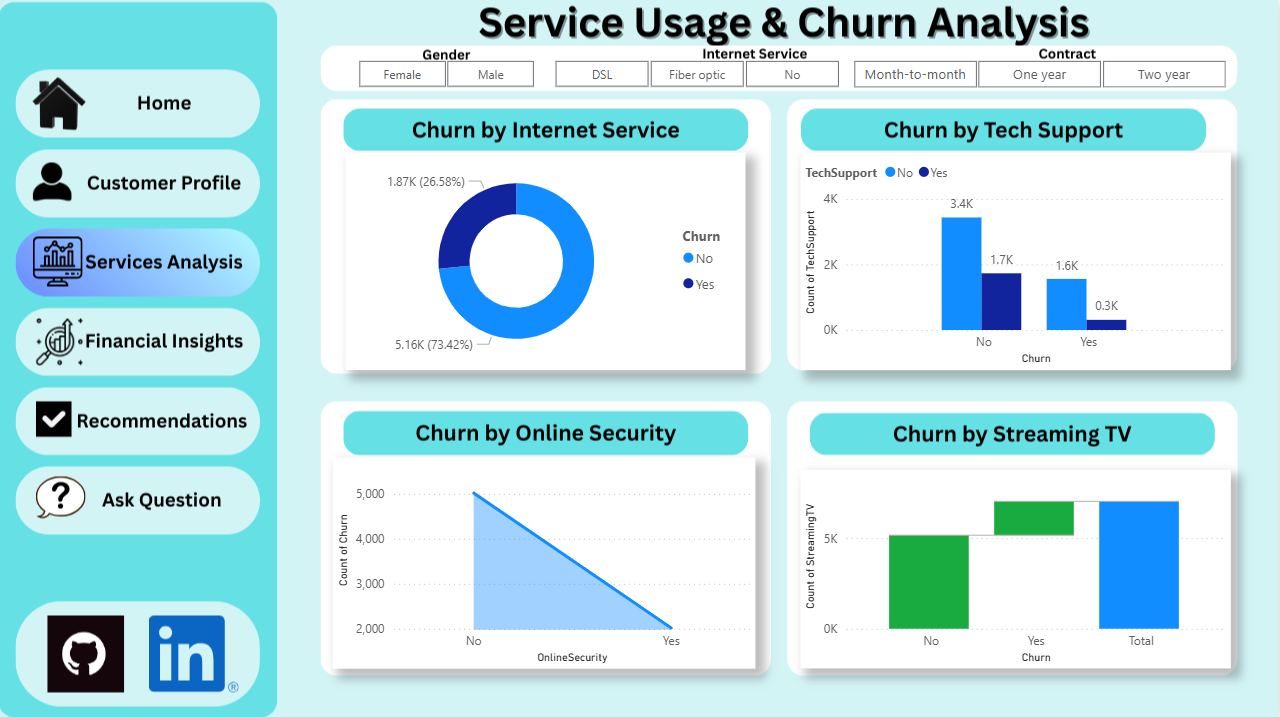

What the dashboard file says about the page in this screenshot:
{"tool":"powerbi","page":{"name":"Services Analysis","canvas":[1280,720],"ordinal":2},"visuals":[{"type":"donutChart","fields":{"Category":["telecom_churn_project churn_data.Churn"],"Y":["CountNonNull(telecom_churn_project churn_data.InternetService)"]},"box":[347.5,152.5,400,217.5],"z":0},{"type":"clusteredColumnChart","fields":{"Category":["telecom_churn_project churn_data.Churn"],"Series":["telecom_churn_project churn_data.TechSupport"],"Y":["CountNonNull(telecom_churn_project churn_data.TechSupport)"]},"box":[802.5,152.5,430,217.5],"z":1000},{"type":"waterfallChart","fields":{"Category":["telecom_churn_project churn_data.Churn"],"Y":["CountNonNull(telecom_churn_project churn_data.StreamingTV)"]},"box":[802.5,470,430,198.8],"z":2000},{"type":"areaChart","fields":{"Category":["telecom_churn_project churn_data.OnlineSecurity"],"Y":["CountNonNull(telecom_churn_project churn_data.Churn)"]},"box":[335,457.5,422.5,211.2],"z":3000},{"type":"actionButton","box":[37.5,470,201.2,58.8],"z":4000},{"type":"actionButton","box":[35,392.5,203.8,65],"z":5000},{"type":"actionButton","box":[37.5,310,201.2,60],"z":6000},{"type":"actionButton","box":[35,152.5,203.8,58.8],"z":7000},{"type":"actionButton","box":[30,70,208.8,63.8],"z":8000},{"type":"slicer","fields":{"Values":["telecom_churn_project churn_data.gender"]},"box":[335,53.8,225,33.8],"z":9000},{"type":"slicer","fields":{"Values":["telecom_churn_project churn_data.InternetService"]},"box":[531.2,53.8,333.8,33.8],"z":10000},{"type":"slicer","fields":{"Values":["telecom_churn_project churn_data.Contract"]},"box":[830,53.8,421.2,33.8],"z":11000},{"type":"actionButton","box":[150,612.5,90,83.8],"z":12000},{"type":"actionButton","box":[46.2,612.5,81.2,83.8],"z":13000}]}

Visuals, with their boxes in screenshot pixels (x1, y1, x2, y2), scaled from the page's 1280x720 canvas onto the 1280x717 screenshot:
donutChart - telecom_churn_project churn_data.Churn x CountNonNull(telecom_churn_project churn_data.InternetService): BBox(348, 152, 748, 368)
clusteredColumnChart - telecom_churn_project churn_data.Churn x telecom_churn_project churn_data.TechSupport: BBox(802, 152, 1232, 368)
waterfallChart - telecom_churn_project churn_data.Churn x CountNonNull(telecom_churn_project churn_data.StreamingTV): BBox(802, 468, 1232, 666)
areaChart - telecom_churn_project churn_data.OnlineSecurity x CountNonNull(telecom_churn_project churn_data.Churn): BBox(335, 456, 758, 666)
actionButton: BBox(38, 468, 239, 527)
actionButton: BBox(35, 391, 239, 456)
actionButton: BBox(38, 309, 239, 368)
actionButton: BBox(35, 152, 239, 210)
actionButton: BBox(30, 70, 239, 133)
slicer - telecom_churn_project churn_data.gender: BBox(335, 54, 560, 87)
slicer - telecom_churn_project churn_data.InternetService: BBox(531, 54, 865, 87)
slicer - telecom_churn_project churn_data.Contract: BBox(830, 54, 1251, 87)
actionButton: BBox(150, 610, 240, 693)
actionButton: BBox(46, 610, 127, 693)
